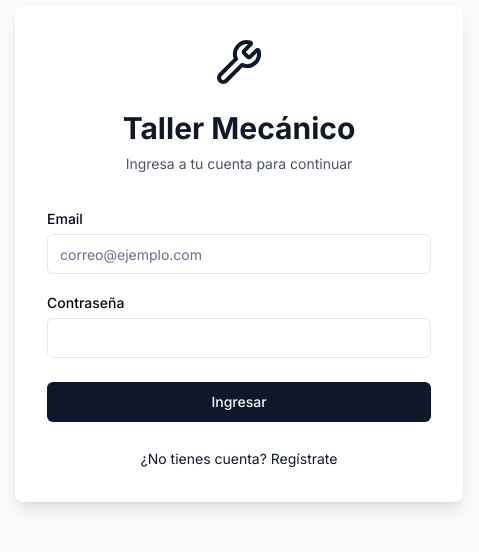
Test case: LoginPage - QA Automation Testing › Form Validation › should show errors for both empty fields
The image size is (479, 552).
Click the button "Ingresar": (239, 402) left=47, top=382, right=431, bottom=422
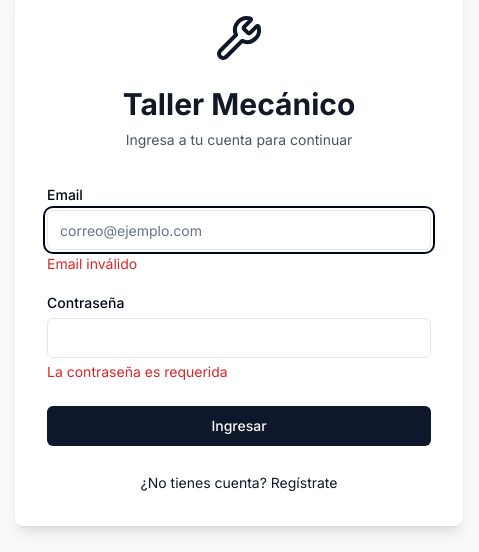
Expected: the text "Email inválido" is shown, left=47, top=255, right=137, bottom=272
Expected: the text "La contraseña es requerida" is shown, left=47, top=363, right=228, bottom=380
